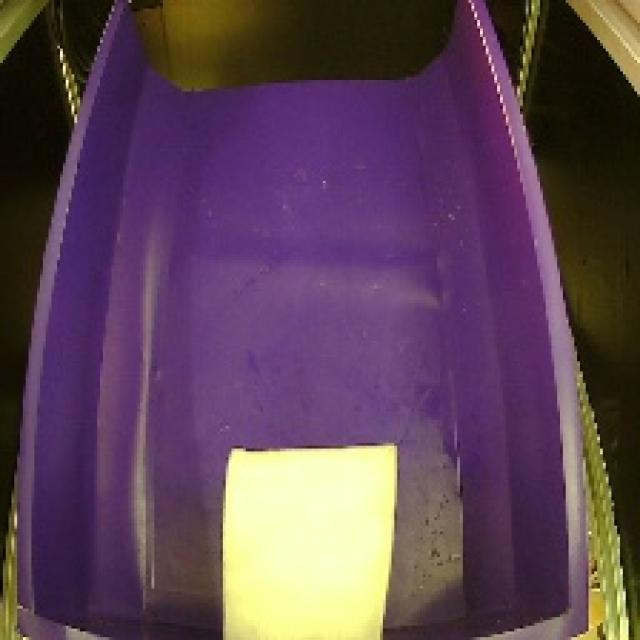white_radish: (196, 429, 414, 640)
